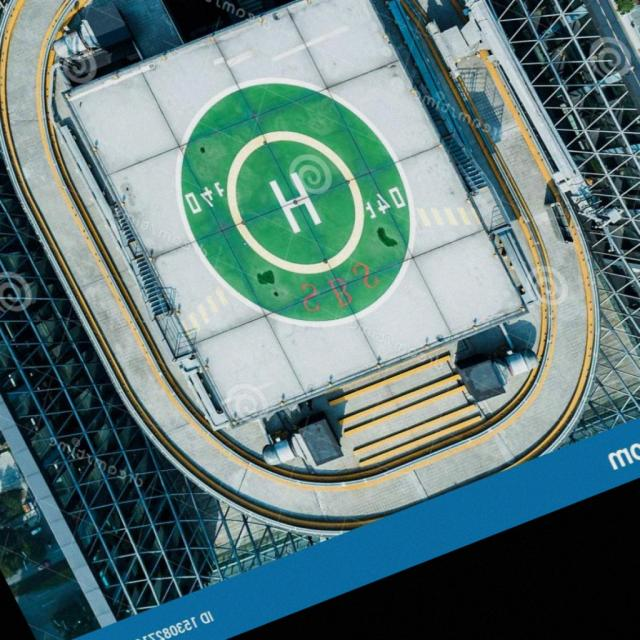helipad: (222, 126, 367, 278)
